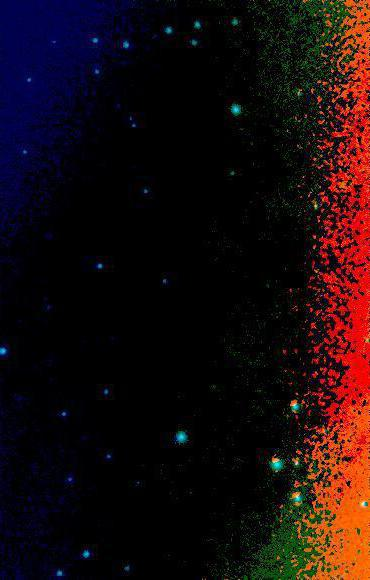star: (241, 274, 271, 304)
